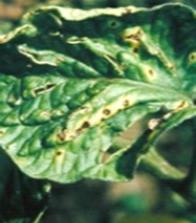Tomato Septoria leaf spot: (0, 0, 196, 180)
